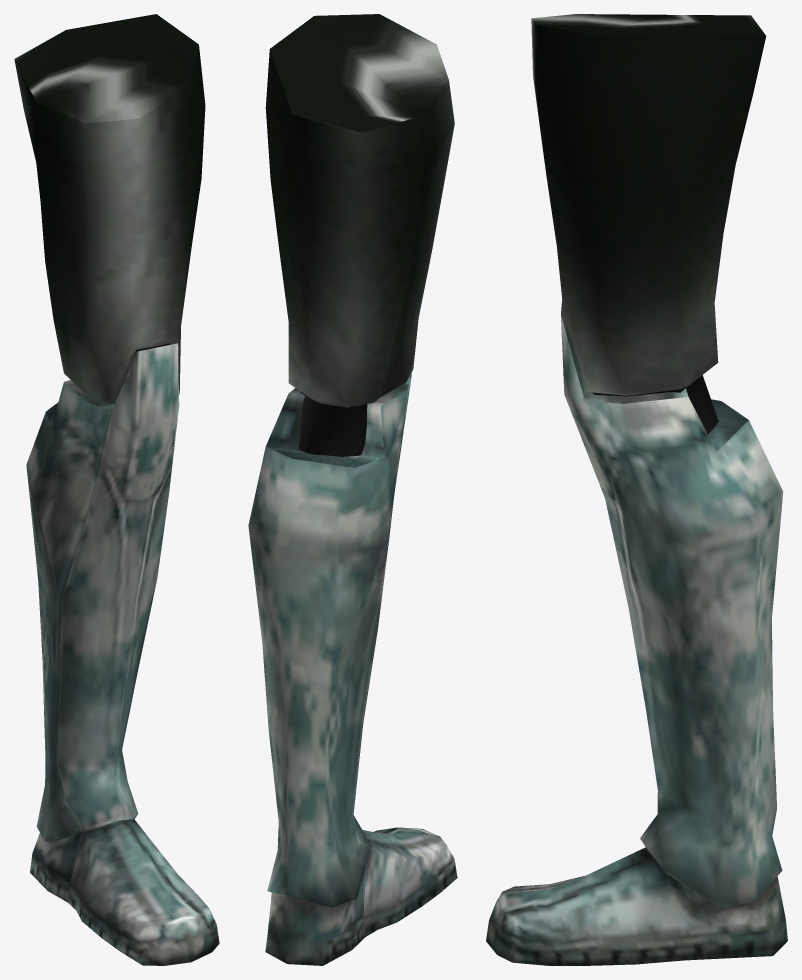
The model's file is Clone_Leg_Left.fbx.
The picture shows the model from 3 angles, left to right: view 1: azimuth 30°, elevation 25°; view 2: azimuth 150°, elevation 25°; view 3: azimuth 270°, elevation 25°; orthographic projection. The views are drawn at different scales.
Parts seen in each view (by area): view 1: polySurface3; view 2: polySurface3; view 3: polySurface3.
Boxes of the visible parts, bbox=[...] form: polySurface3: bbox=[14, 14, 219, 965]; polySurface3: bbox=[248, 14, 457, 965]; polySurface3: bbox=[486, 14, 787, 965].
Bounding box in the file's own units: 0.3342 × 1.86 × 0.5433.
1 material, 1 textured.
